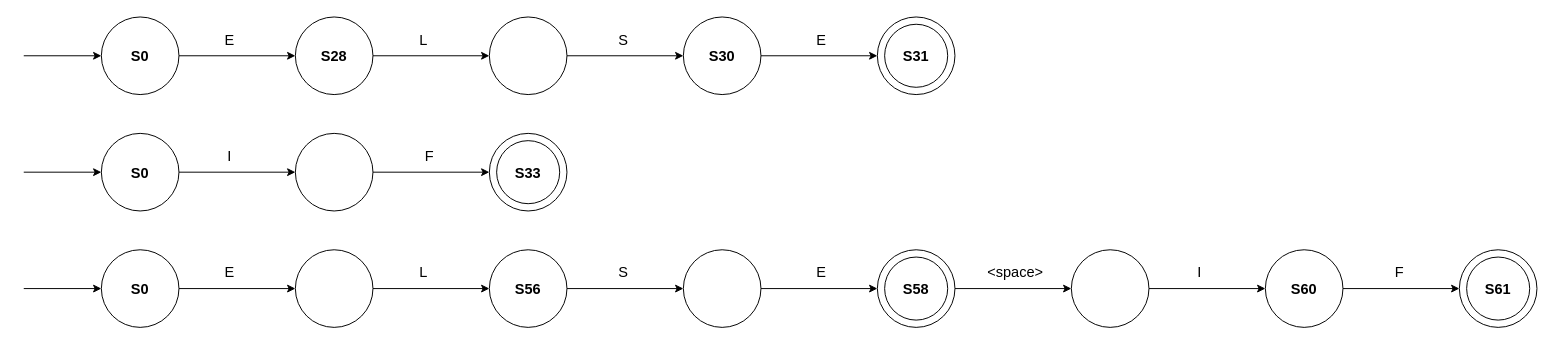
Image size: 1554x344. Some labels were removed from this diagram. Each missing label, with the centre of its shape:
"S29" goes at pixel 527 55.
"S32" goes at pixel 333 171.
"S55" goes at pixel 333 288.
"S57" goes at pixel 721 288.
"S59" goes at pixel 1109 288.
